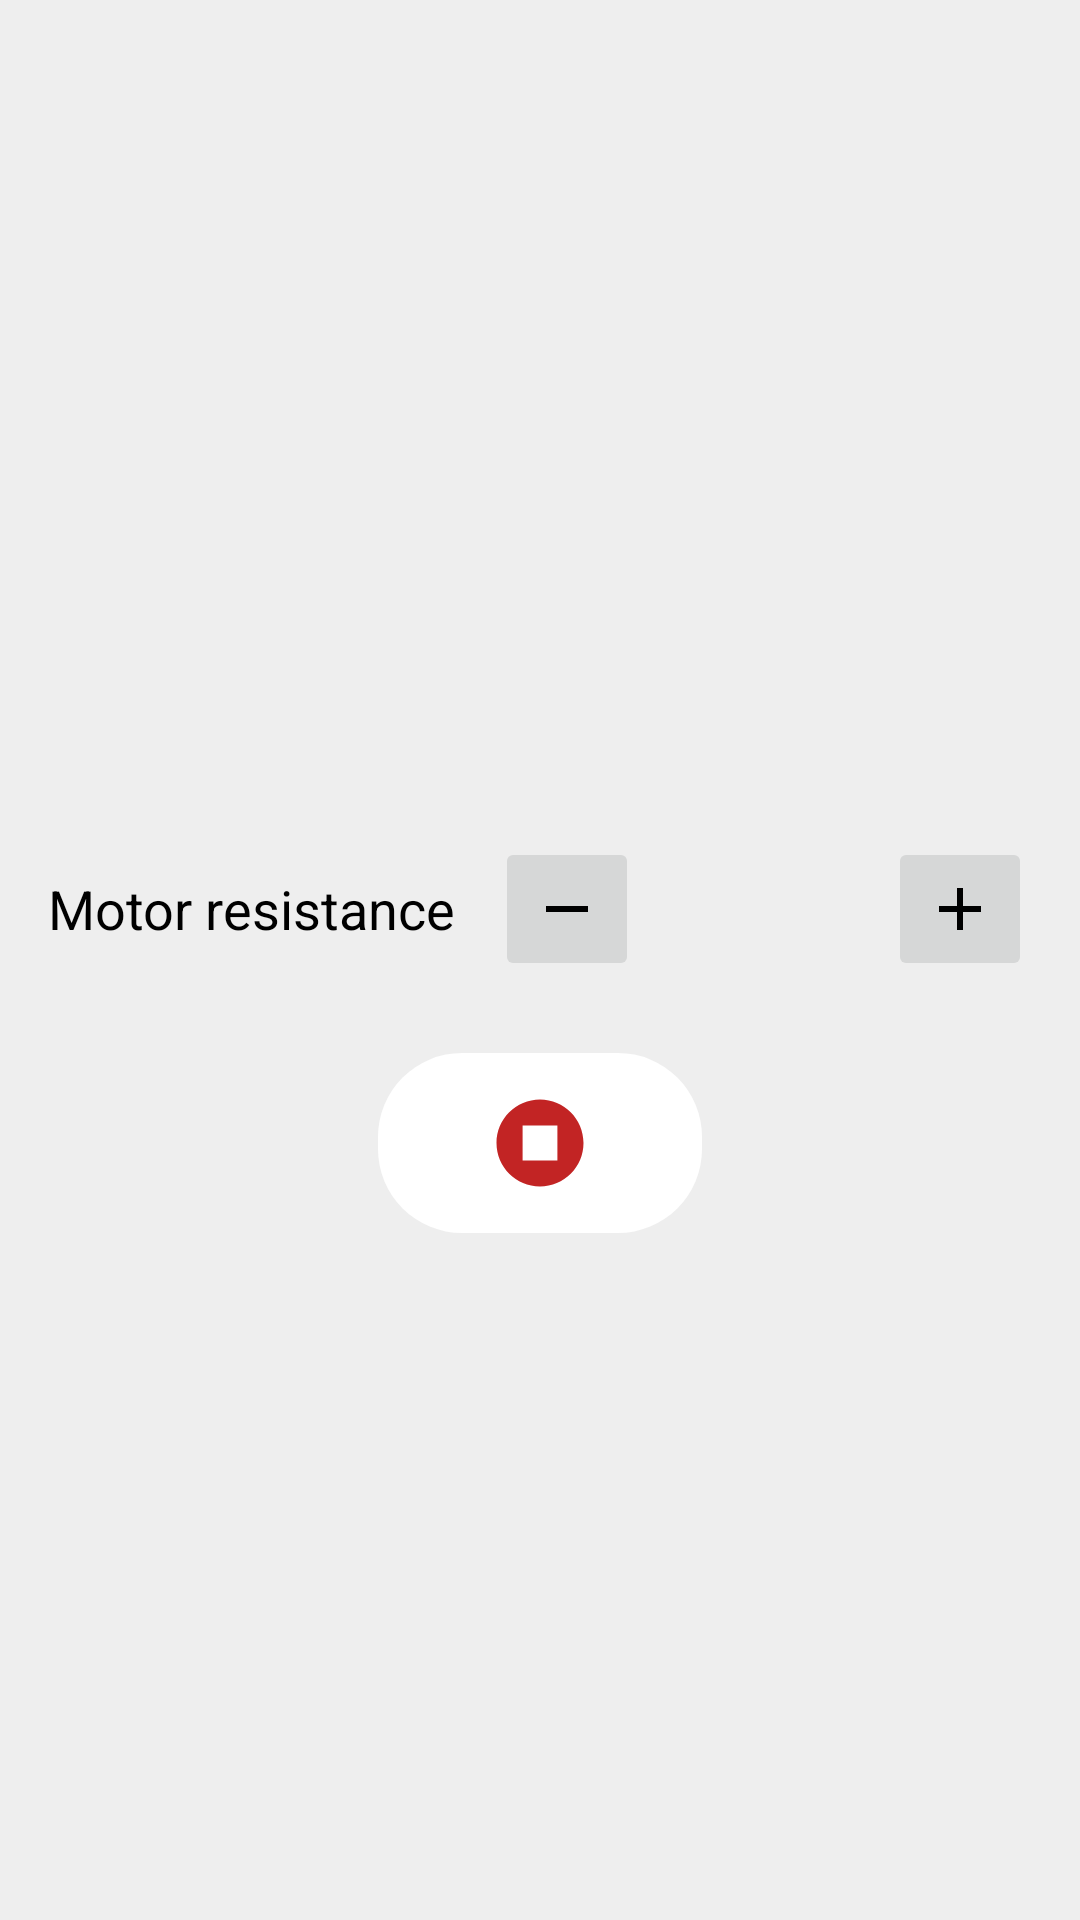

Point at icon controls on the screen. Image size 1080 x 1920, points as [x,y].
Increasing threshold of pose detect results button: [960,909]
Stops the exercise session: [540,1143]
